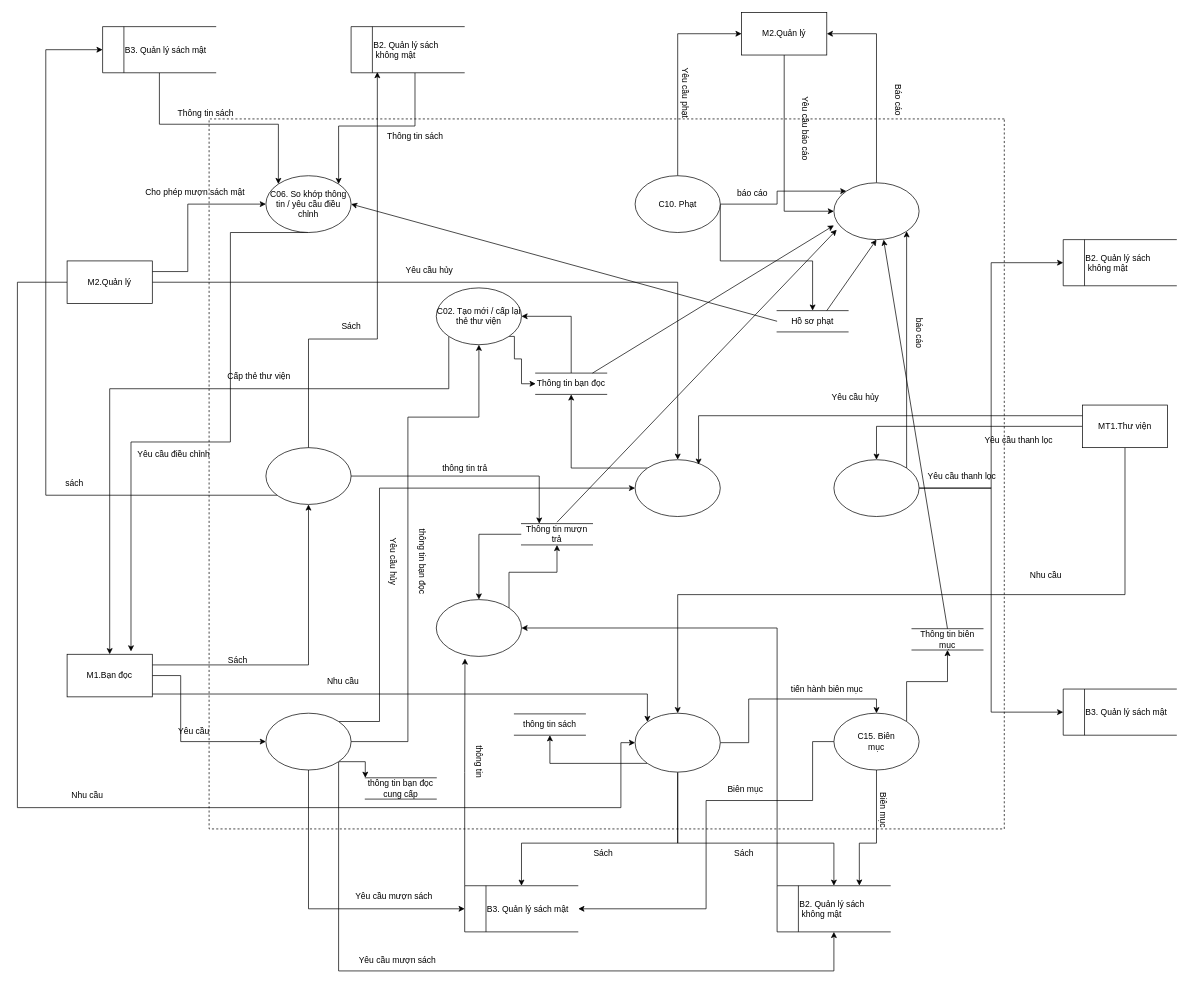
Image size: 1189x989. Some labels were removed from this diagram. Here are the shapes that lost their labels. From the top down, the box of each, then its label:
(833, 182, 919, 240): C04. Báo cáo lên quản lý
(265, 447, 351, 504): C09. Trả sách
(634, 459, 720, 517): C03. Hủy bạn đọc
(833, 459, 919, 517): C13. Thanh lọc
(436, 599, 521, 656): C07. Lưu thông tin mượn/trả
(265, 712, 351, 770): C01. Tiếp nhận yêu cầu từ bạn đọc
(634, 712, 720, 772): C14. Nhập sách
